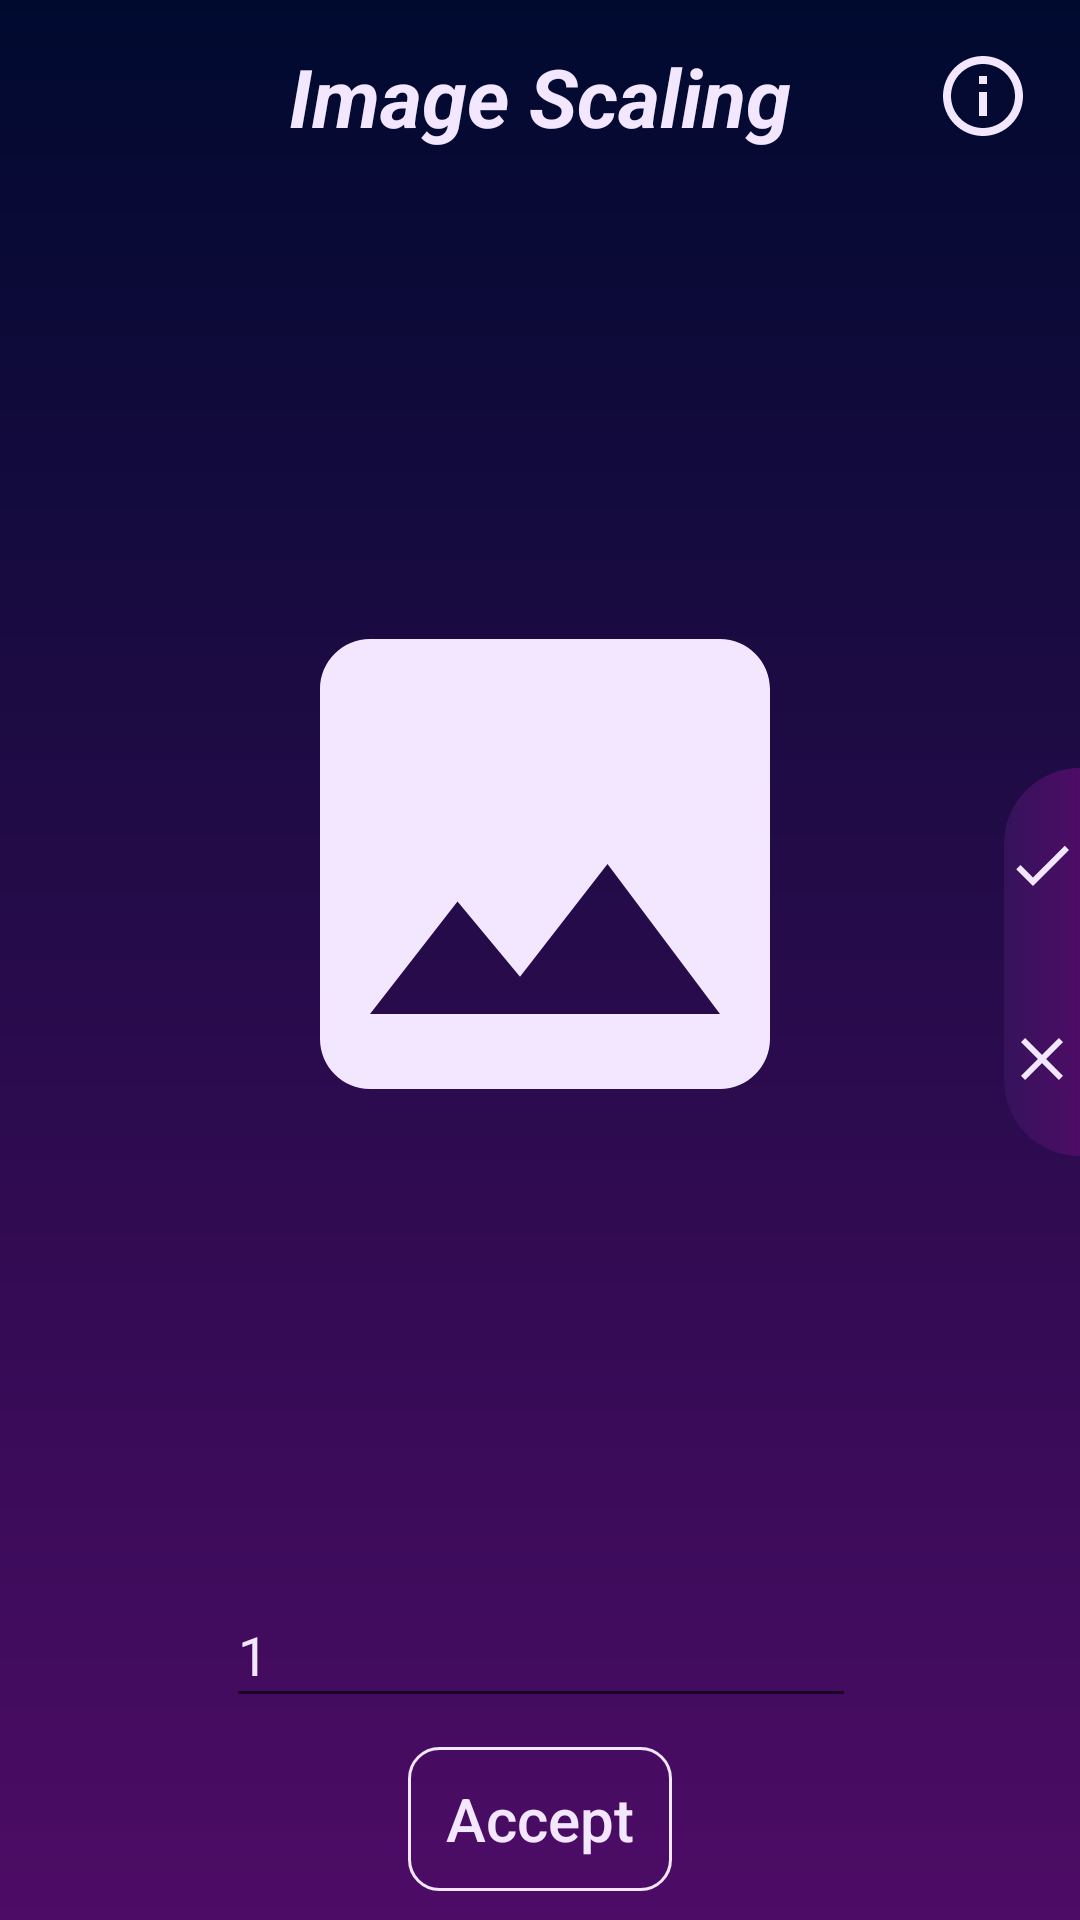

Screen size 1080x1920. Icon name, then its center in pixels as (x=x, y=y):
Information: (x=983, y=96)
No: (x=1050, y=1058)
Yes: (x=1048, y=864)
